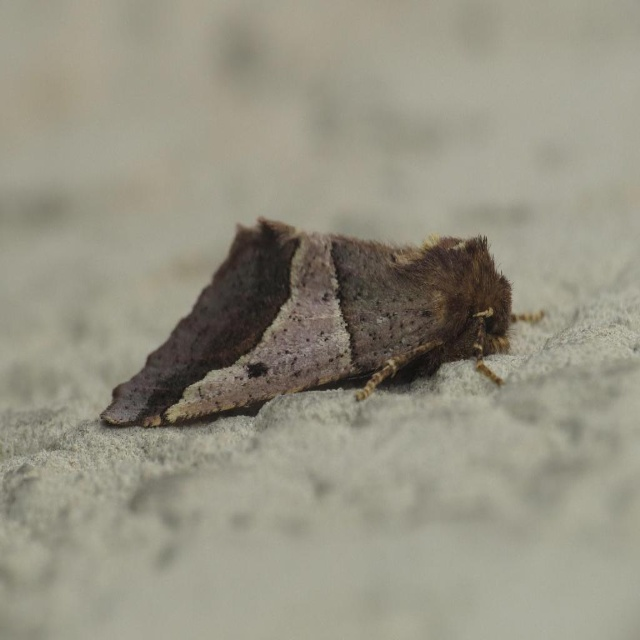Moths and butterflies: (98, 214, 548, 429)
